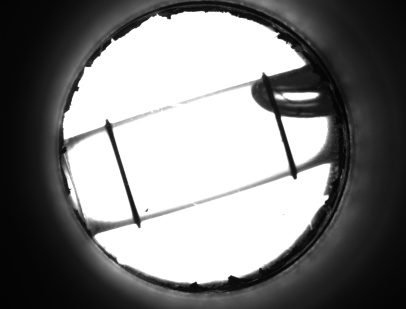line: (108, 144, 141, 206), (272, 122, 298, 158)
